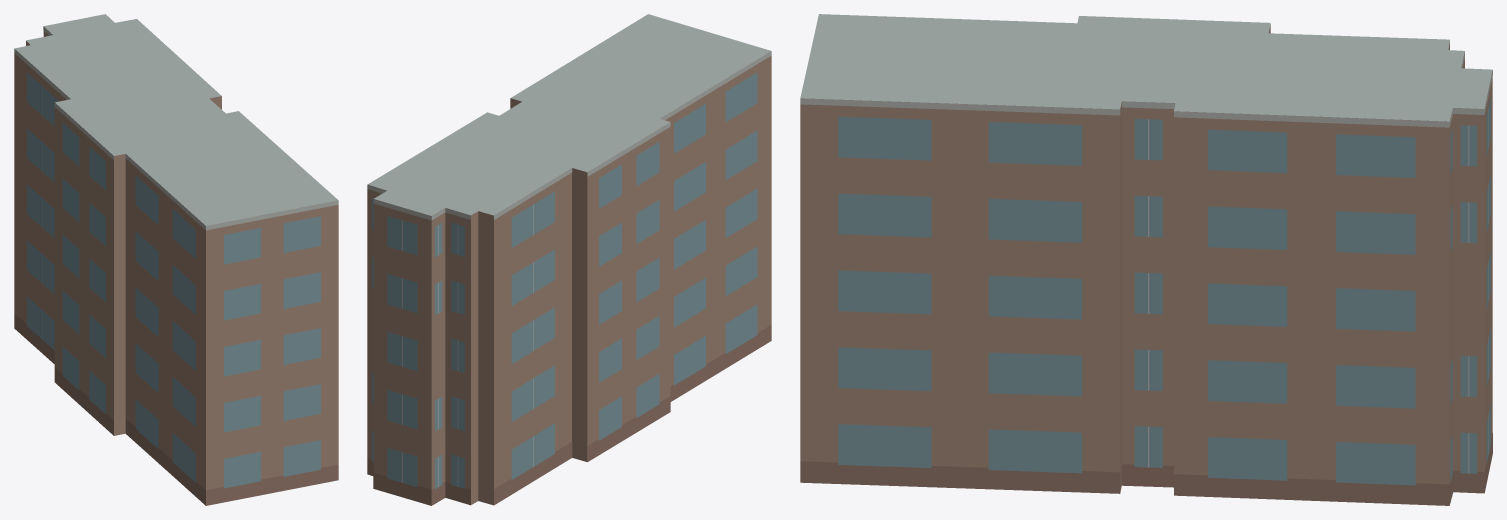
File: survey-upis-32520522.glb
3 renders of one model, left to right at view 1: azimuth 30°, elevation 25°; view 2: azimuth 150°, elevation 25°; view 3: azimuth 270°, elevation 25°, orthographic. The views are drawn at different scales.
Parts seen in each view (by area): view 1: survey-upis-32520522.tmp; view 2: survey-upis-32520522.tmp; view 3: survey-upis-32520522.tmp.
Part boxes in pixels (x1,y1,x2,y2): survey-upis-32520522.tmp: [14, 14, 338, 505]; survey-upis-32520522.tmp: [367, 14, 771, 505]; survey-upis-32520522.tmp: [800, 14, 1492, 505].
Size of the model in its own units: 9.25 by 15.4 by 25.16.
